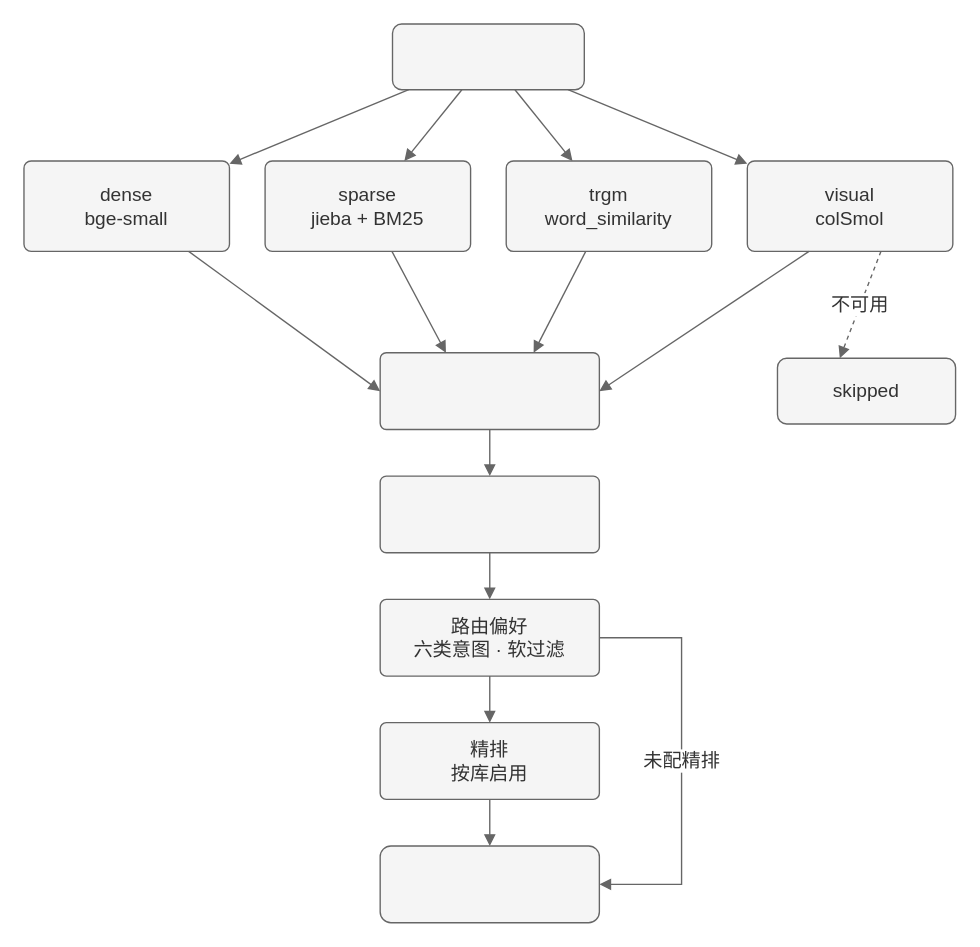
Some shapes in this 980 by 947 pixel diagram are drawn without their labels. Each missing label, with the centre of its shape:
query: point 487,56
RRF k = 60: point 489,390
top_k: point 489,884
软删过滤: point 489,514
